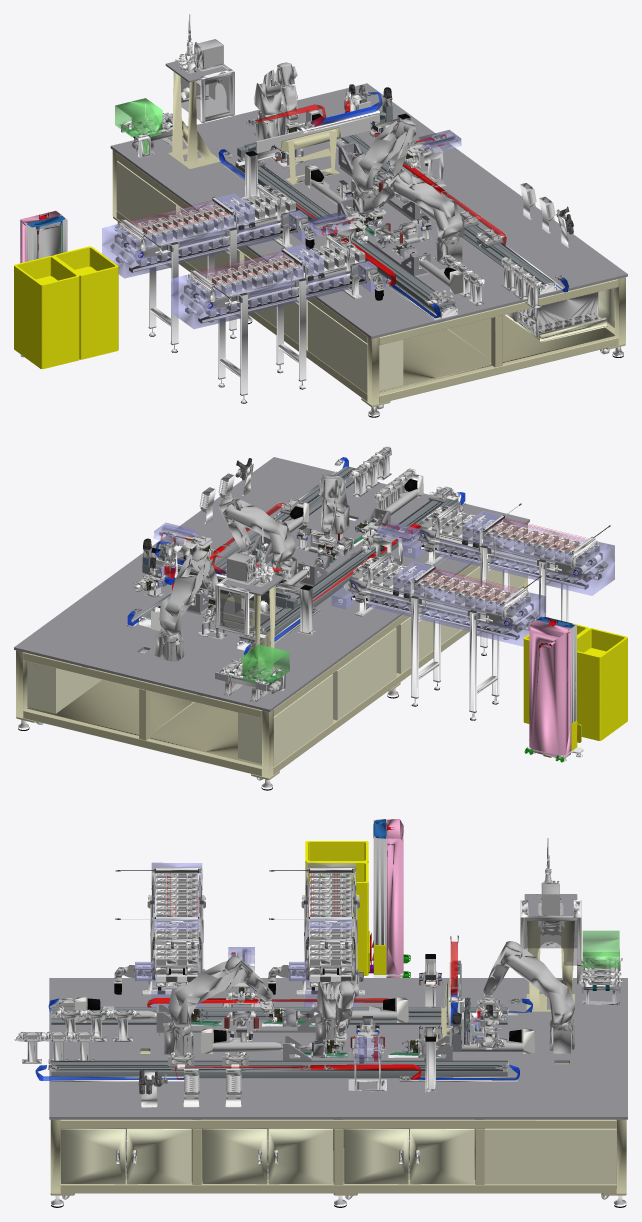
Rendered from cell_tank.glb.
The picture shows the model from 3 angles, top to bottom: view 1: azimuth 30°, elevation 25°; view 2: azimuth 150°, elevation 25°; view 3: azimuth 270°, elevation 25°; orthographic projection. The views are drawn at different scales.
Bounding box in the file's own units: 4.59 × 2.14 × 4.67.
